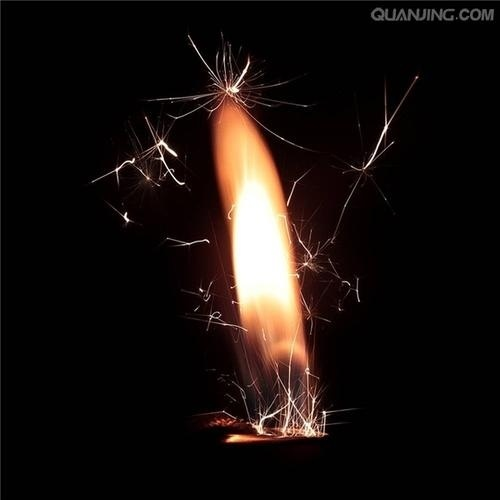fire: (220, 93, 305, 379)
